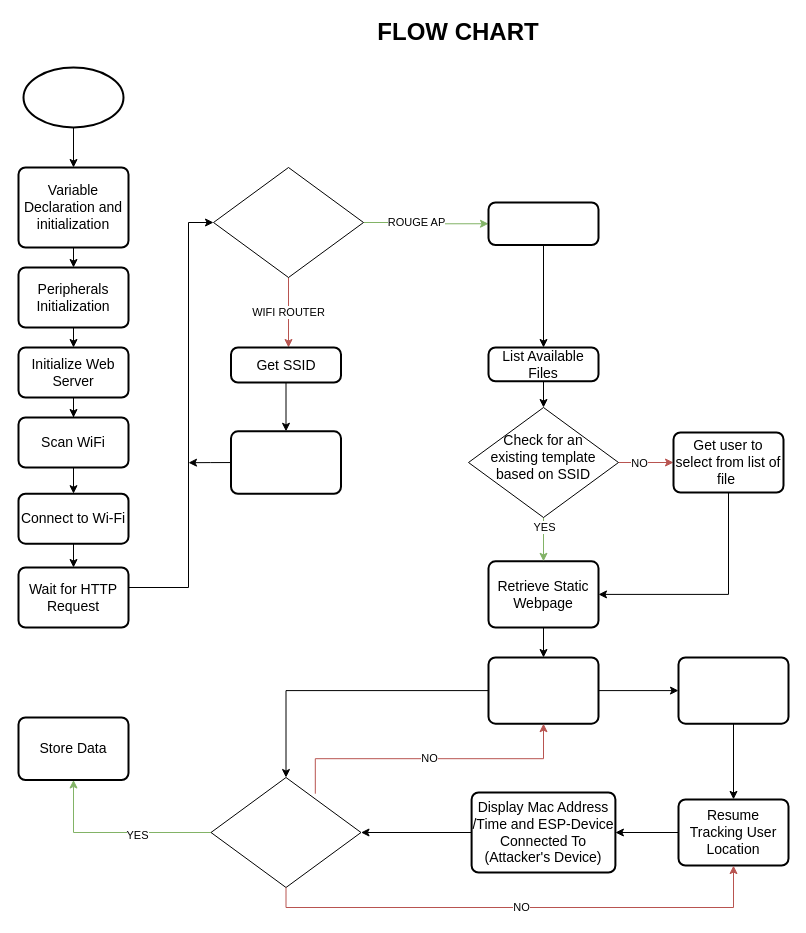
The diagram is 806 pixels wide and 933 high, and some of its shapes have lost their labels. Each missing label, with the box of its shape:
Check if it's a store request: (210, 776, 361, 888)
Check if user is connected to our AP or Router: (212, 166, 364, 278)
Display Static Webpage (Victim's Device): (487, 656, 599, 724)
Get WiFi-SSID: (487, 201, 599, 246)
MAIN: (22, 66, 124, 128)
Send DeAuth Packets to SSID: (230, 430, 342, 494)
Submit Request to Real Router: (677, 656, 789, 724)
